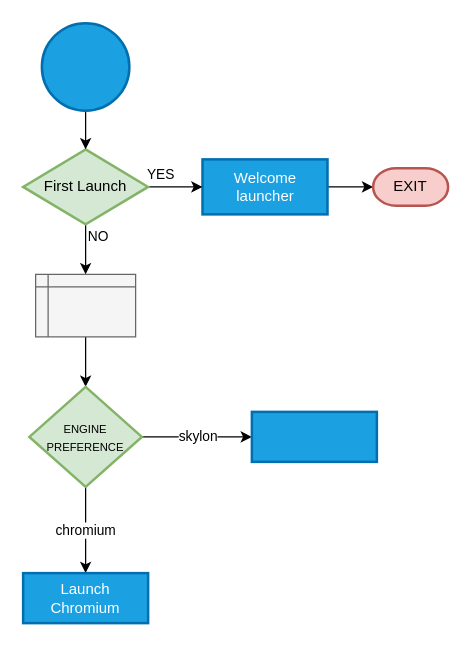
The diagram is 470 pixels wide and 645 high, and some of its shapes have lost their labels. Here are the shapes that lost their labels. From the top down, the centre of each, then its label:
At point (85, 66): "MAIN LAUNCH".
At point (85, 305): "user cache".
At point (314, 436): "Launch Skylon".
